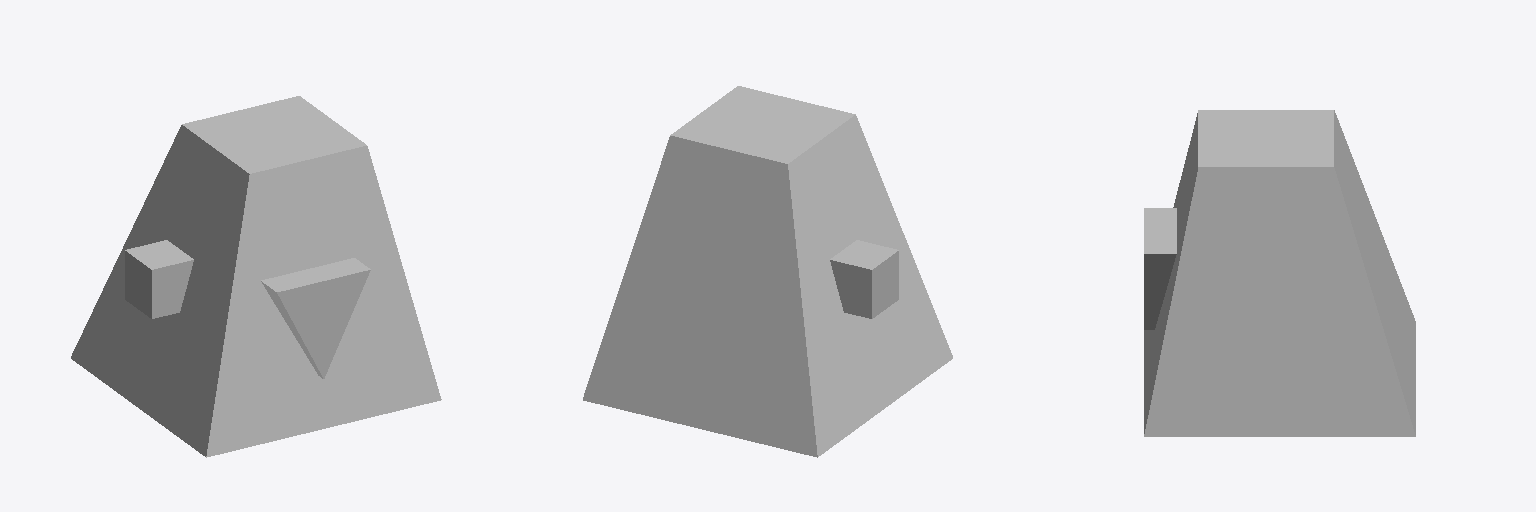
Rendered from thing-y+z.obj.
The picture shows the model from 3 angles: view 1: azimuth 30°, elevation 25°; view 2: azimuth 150°, elevation 25°; view 3: azimuth 270°, elevation 25°; orthographic projection.
Visible parts, largest first — view 1: Cube; view 2: Cube; view 3: Cube.
Part boxes in pixels (bbox=[...]): Cube: bbox=[71, 96, 441, 457]; Cube: bbox=[583, 86, 952, 457]; Cube: bbox=[1144, 110, 1415, 436].
Size of the model in its own units: 1 by 1 by 1.